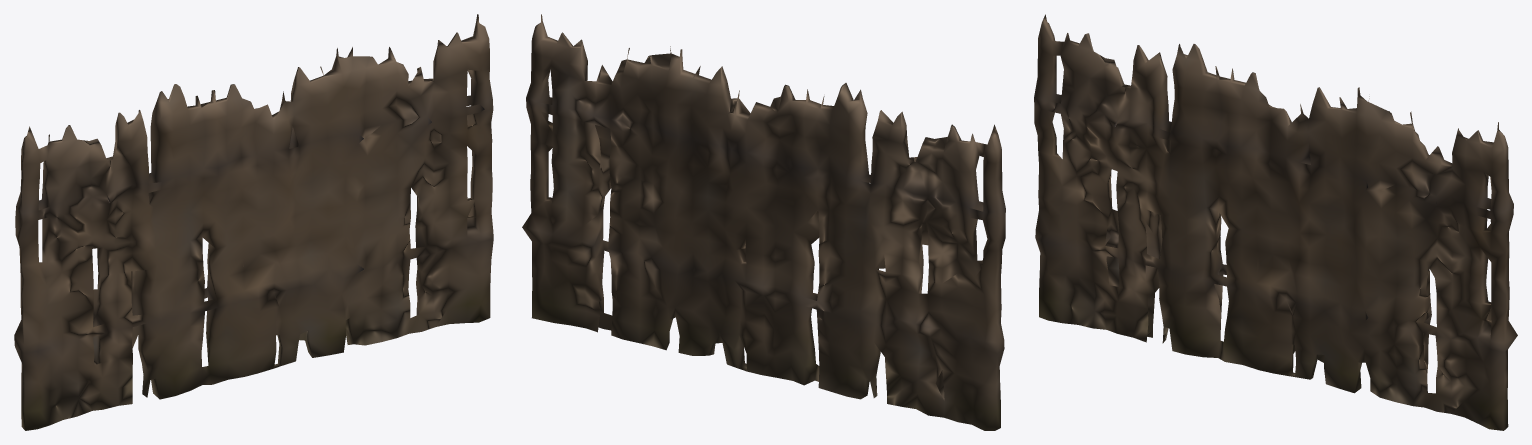
File: palisade2.glb
3 renders of one model, left to right at view 1: azimuth 30°, elevation 25°; view 2: azimuth 150°, elevation 25°; view 3: azimuth 330°, elevation 25°, orthographic.
Size of the model in its own units: 1.87 by 1.16 by 0.0908.
